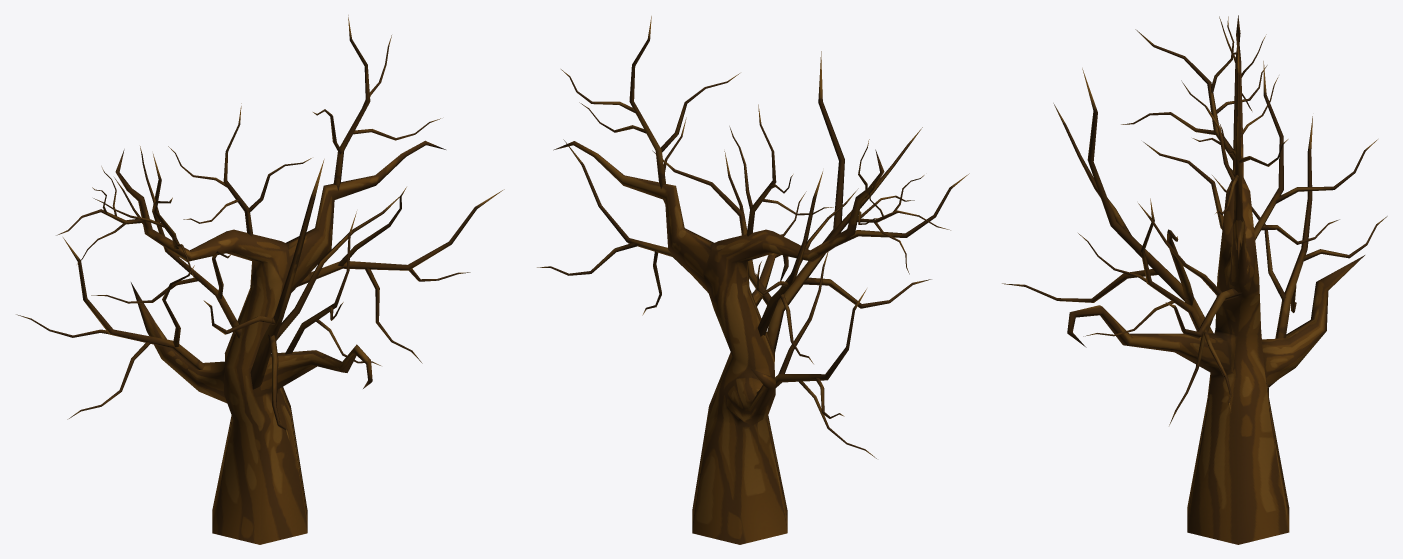
Rendered from Tree2.glb.
3 renders of one model, left to right at view 1: azimuth 30°, elevation 25°; view 2: azimuth 150°, elevation 25°; view 3: azimuth 270°, elevation 25°, orthographic. The views are drawn at different scales.
Visible parts, largest first — view 1: Tree_02; view 2: Tree_02; view 3: Tree_02.
Part boxes in pixels (bbox=[...]): Tree_02: bbox=[16, 15, 504, 544]; Tree_02: bbox=[537, 16, 969, 544]; Tree_02: bbox=[1002, 15, 1387, 544].
Bounding box in the file's own units: 129 × 143 × 96.7.
Materials: 1 (1 with a texture image).
